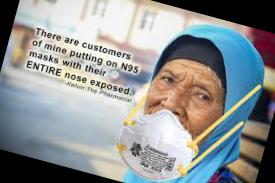mask_weared_incorrect: (127, 63, 221, 169)
